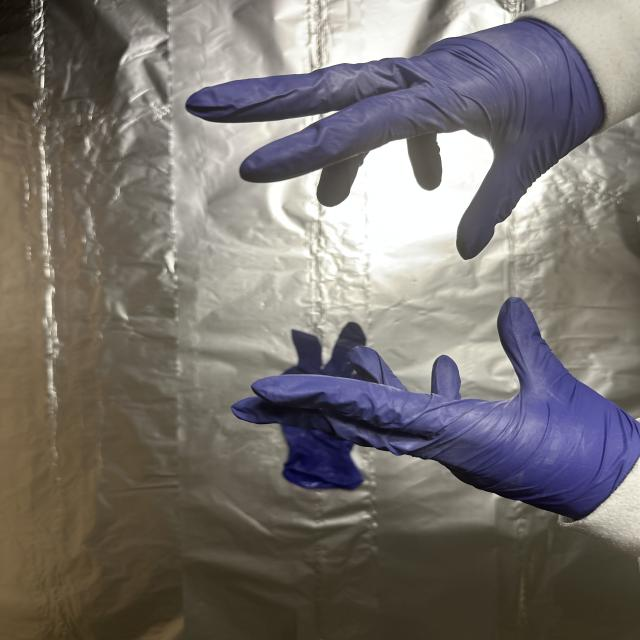gloves_contaminated: (187, 21, 603, 259), (232, 298, 640, 520)
